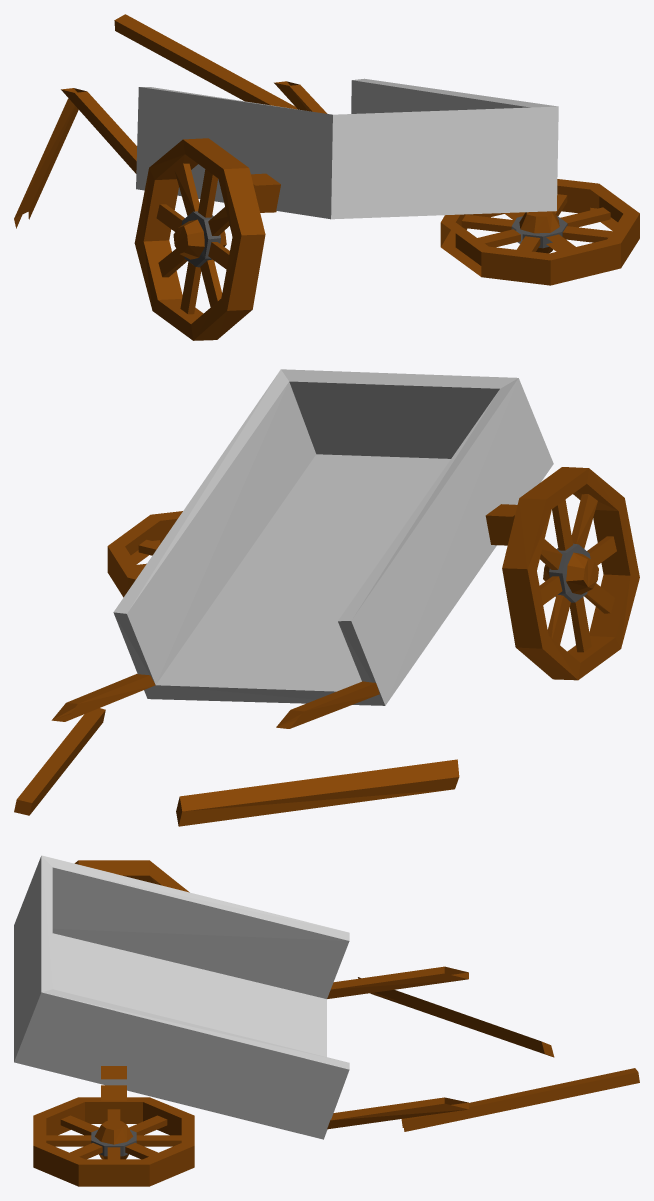
Rendered from brokencart.obj.
The picture shows the model from 3 angles, top to bottom: view 1: azimuth 30°, elevation 25°; view 2: azimuth 150°, elevation 25°; view 3: azimuth 270°, elevation 25°; orthographic projection. The views are drawn at different scales.
Parts seen in each view (by area): view 1: brokencart_back; view 2: brokencart_back; view 3: brokencart_back.
Part boxes in pixels (bbox=[...]): brokencart_back: bbox=[14, 14, 639, 340]; brokencart_back: bbox=[14, 369, 639, 826]; brokencart_back: bbox=[14, 855, 639, 1186].
Bounding box in the file's own units: 2.87 × 1.39 × 3.88.
